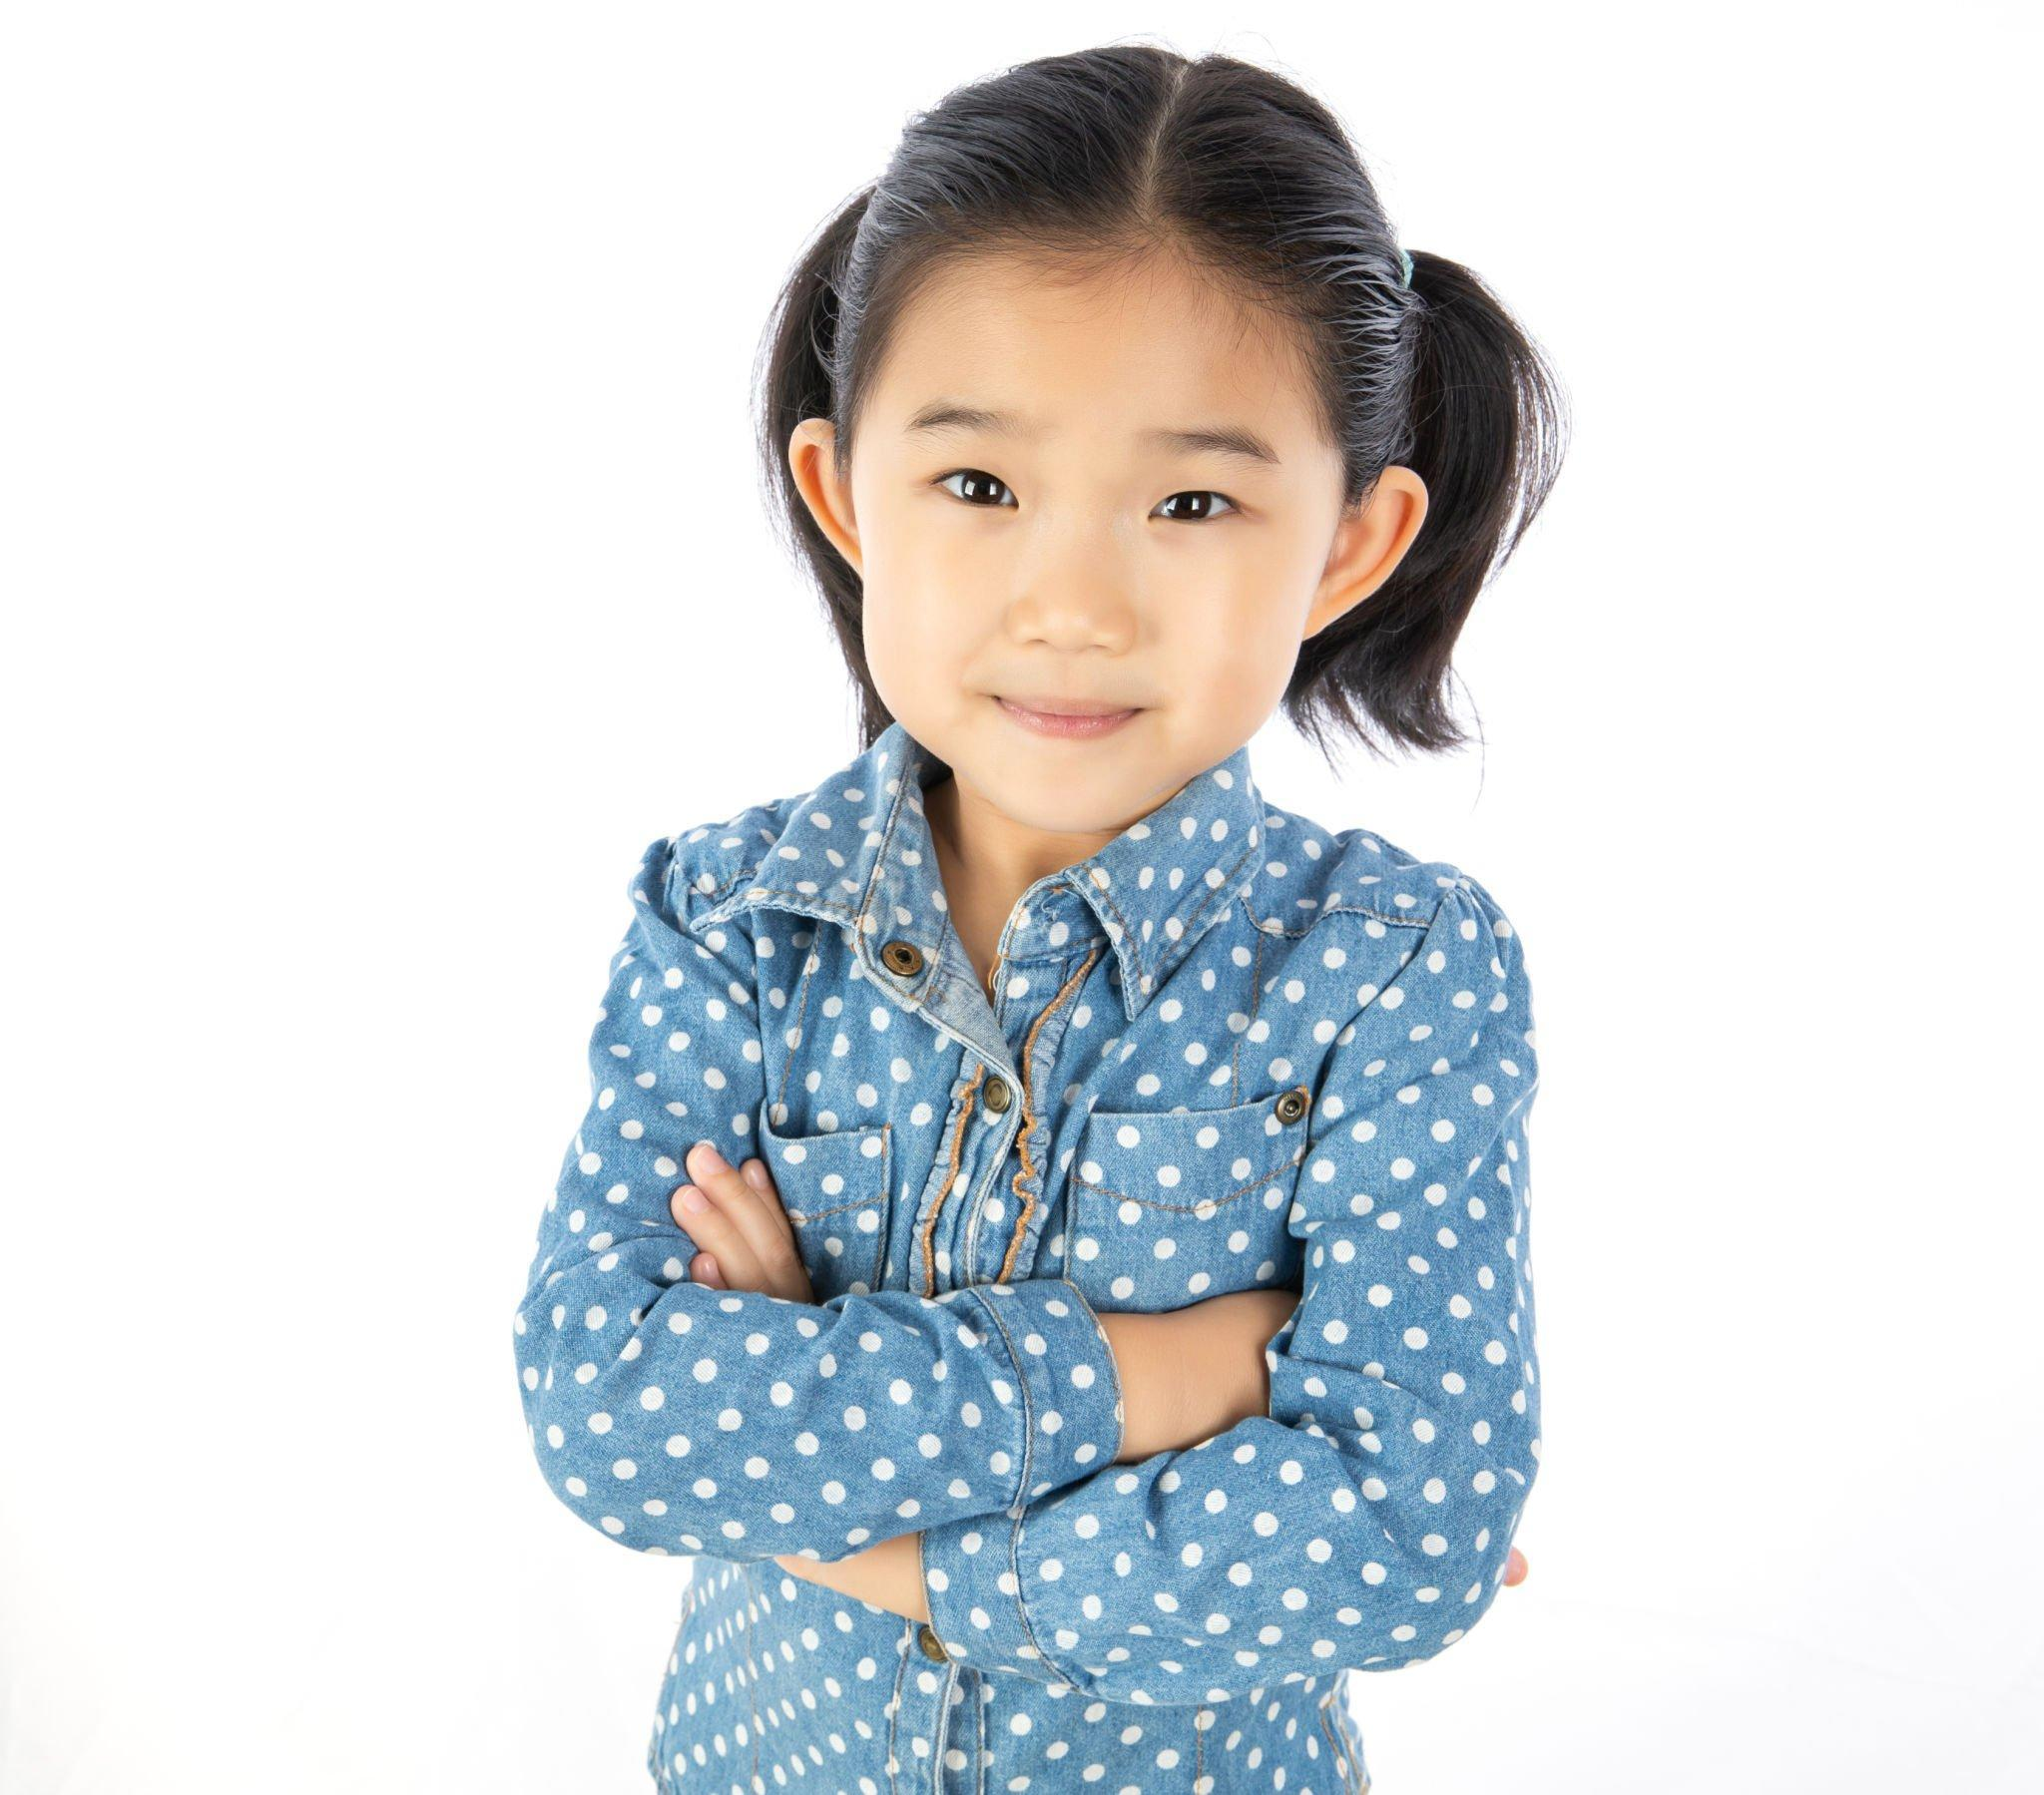Healthy: (765, 226, 1436, 890)
